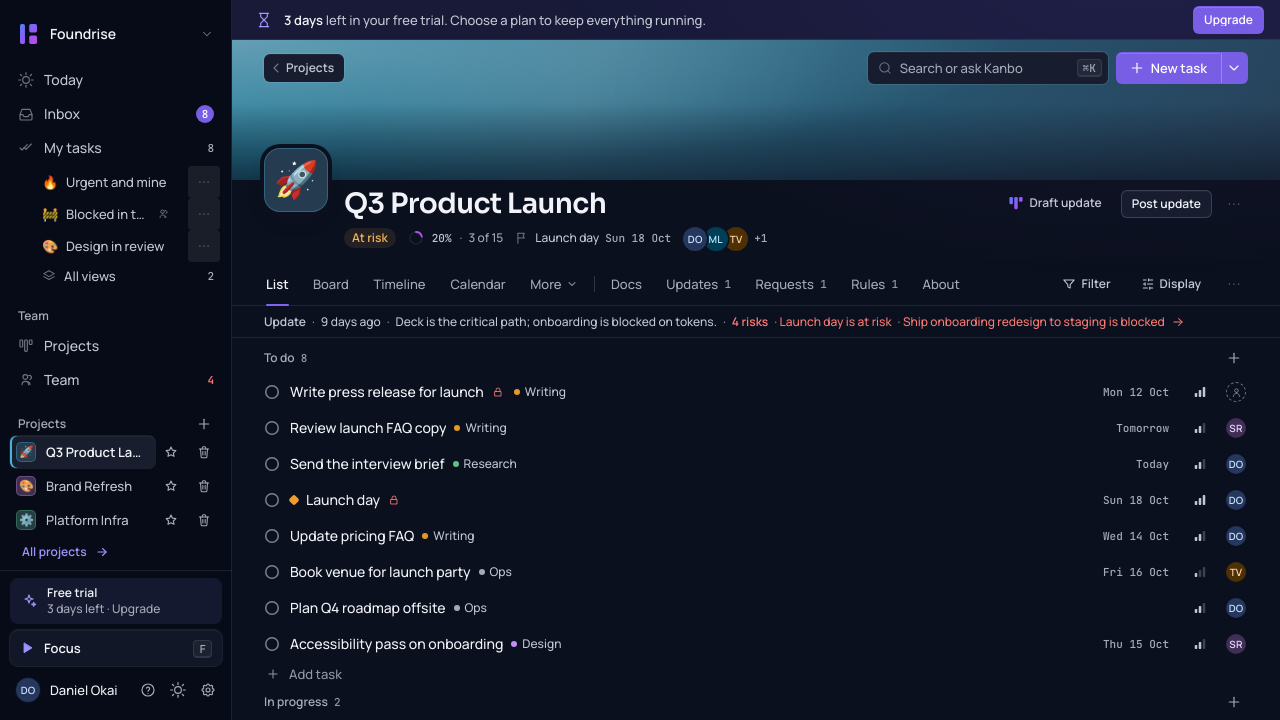
Test: App: every project has its own identity › a project page opens on its cover, its tile over the edge, its name once, and a way back to Projects
This screenshot has width=1280, height=720.
Expected: the navigation bar named "Main" is shown, [10,64,222,396]
Expected: the element "Q3 Product Launch" is shown, [232,40,1279,262]
What coordinates should you click on to do the following:
click the link "Projects"
I would click on:
 (304, 68)
Its box is [264,54,344,82].
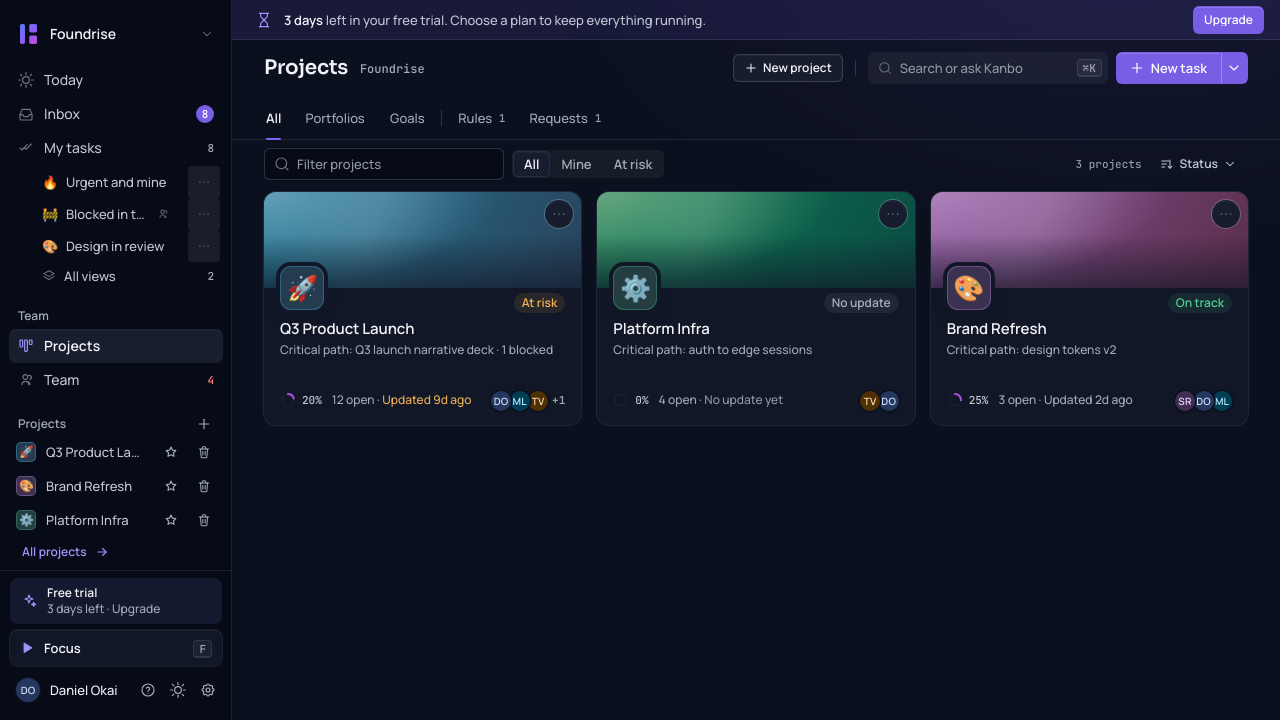
Expected: the heading "Projects" below "left in your free trial." is shown, [264,54,348,82]
